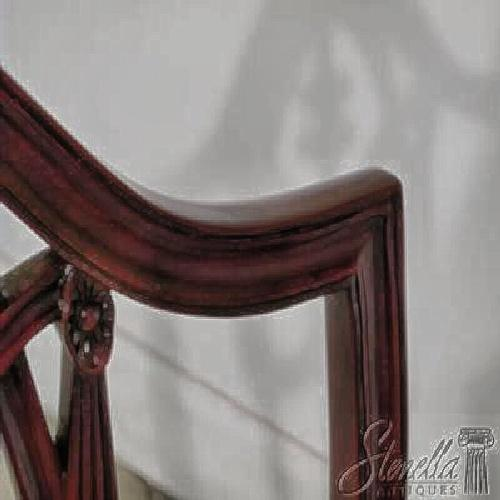chair: (16, 84, 398, 478)
